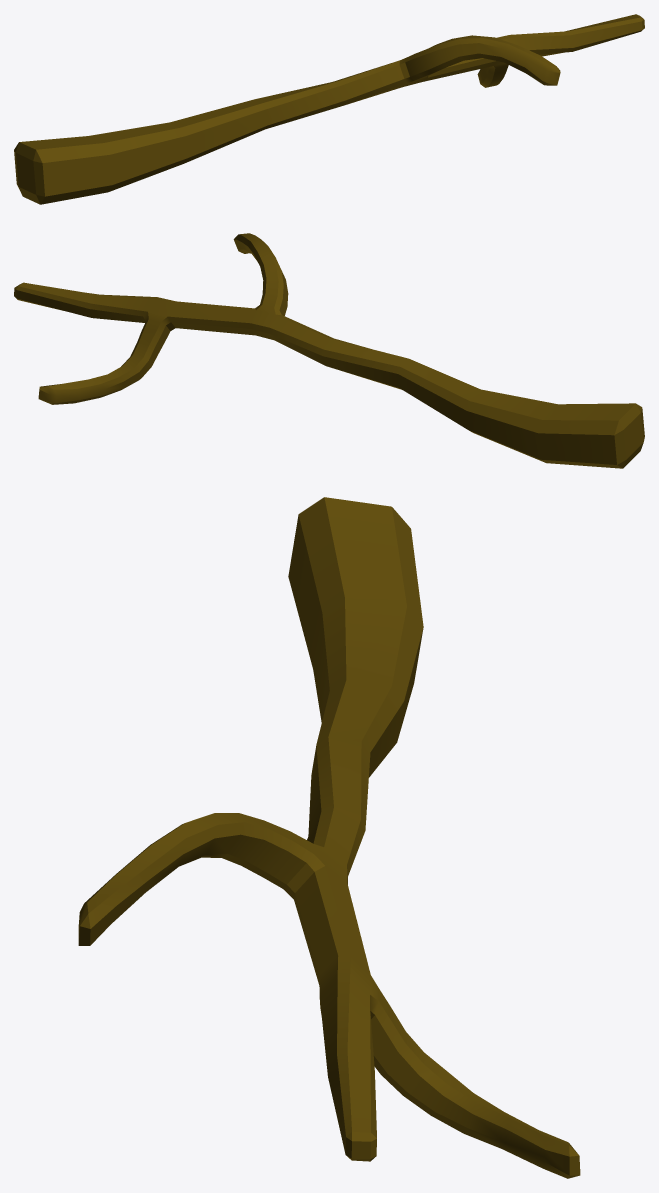
The model's file is RamaVersNormal.fbx.
3 renders of one model, top to bottom at view 1: azimuth 30°, elevation 25°; view 2: azimuth 150°, elevation 25°; view 3: azimuth 270°, elevation 25°, orthographic. The views are drawn at different scales.
Parts seen in each view (by area): view 1: Rama; view 2: Rama; view 3: Rama.
Part boxes in pixels (box(x1,y1,x2,y2)): Rama: box(14, 14, 644, 204); Rama: box(14, 233, 644, 468); Rama: box(78, 497, 580, 1178).
Bounding box in the file's own units: 77.53 × 14.63 × 27.44.
